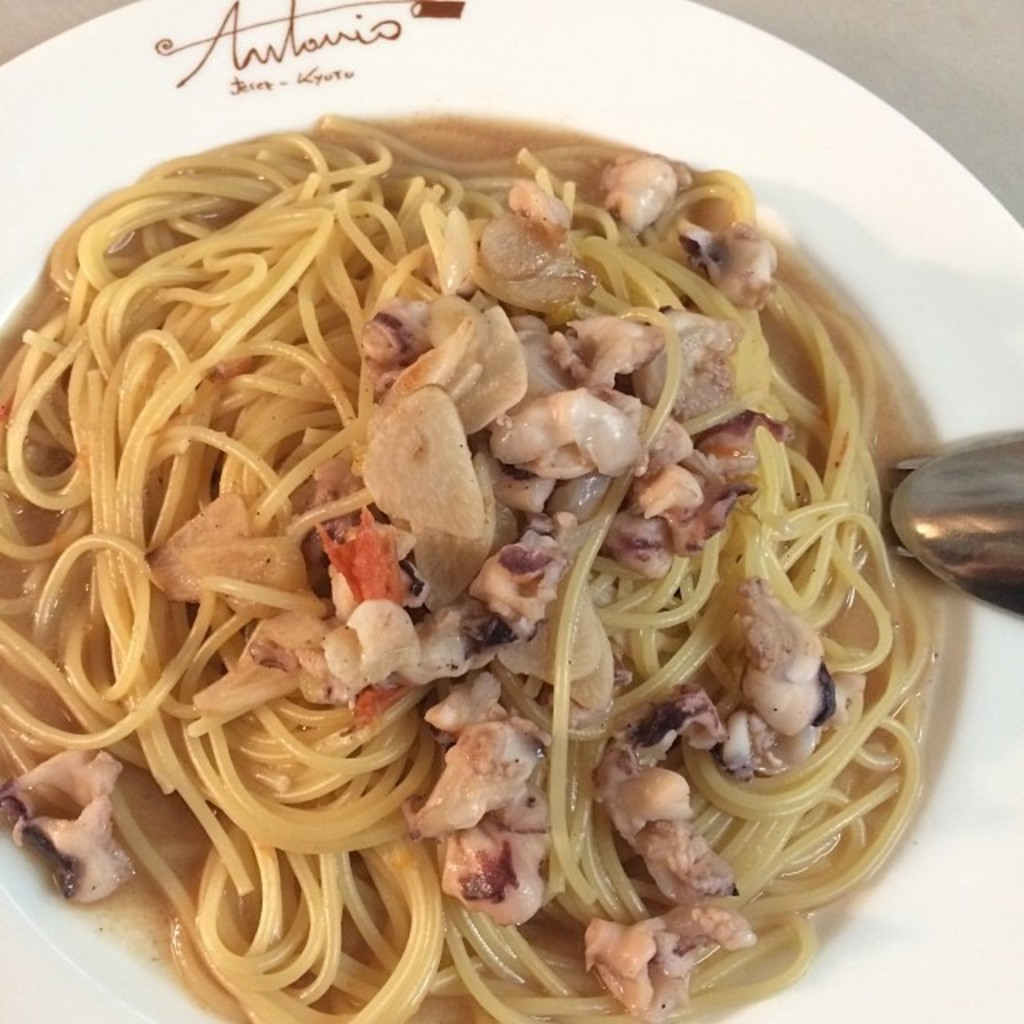pasta: (0, 109, 958, 1022)
